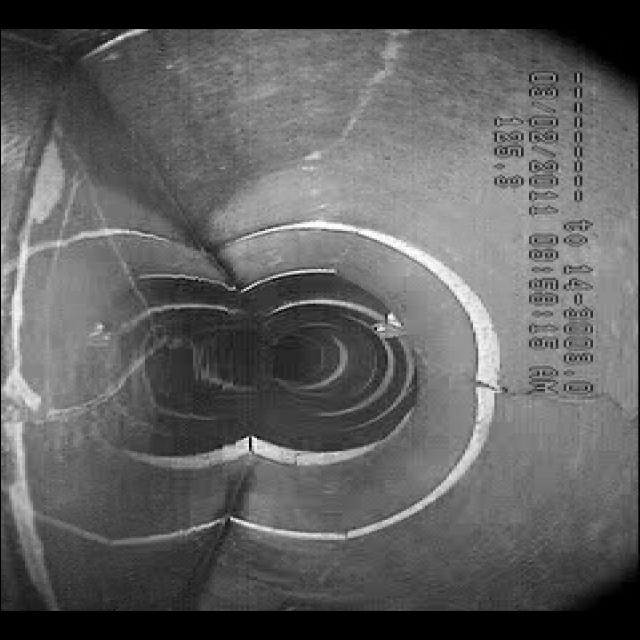Crack: (304, 44, 418, 160)
